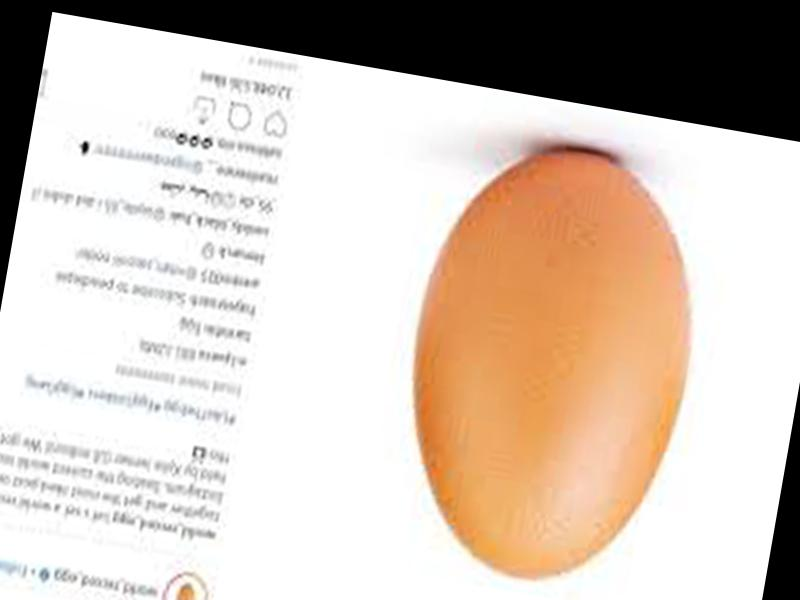Eggs: (380, 132, 723, 600)
